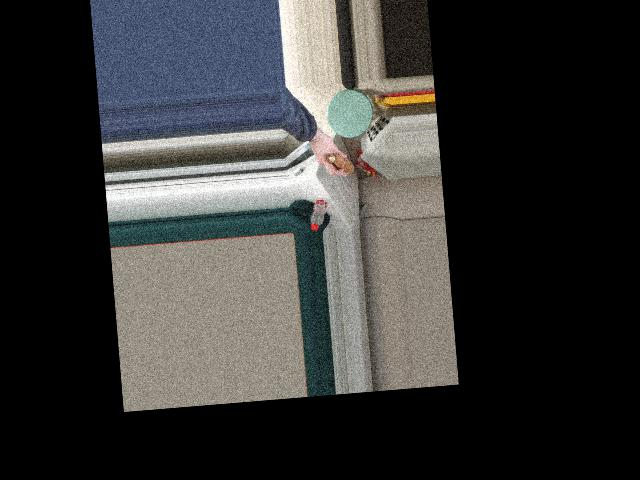sweet_potato: (324, 148, 353, 178)
